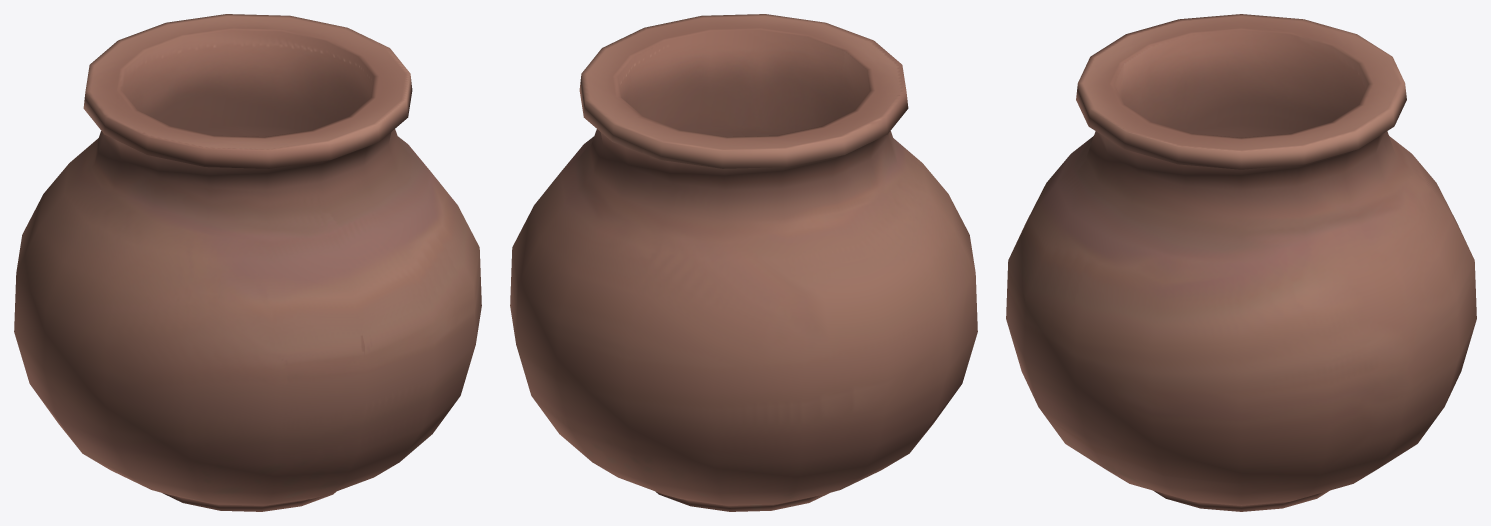
The model's file is pot2.glb.
3 views of the same model, side by side, from view 1: azimuth 30°, elevation 25°; view 2: azimuth 150°, elevation 25°; view 3: azimuth 270°, elevation 25° (orthographic).
Parts seen in each view (by area): view 1: Sphere; view 2: Sphere; view 3: Sphere.
Part boxes in pixels (bbox=[...]): Sphere: bbox=[14, 14, 481, 511]; Sphere: bbox=[510, 14, 977, 511]; Sphere: bbox=[1006, 14, 1476, 511].
Size of the model in its own units: 1.85 by 1.66 by 1.85.
1 material, 1 textured.
